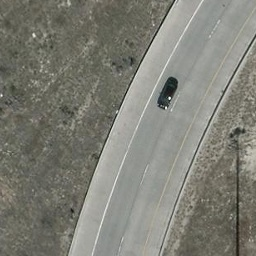car: (159, 79, 176, 109)
